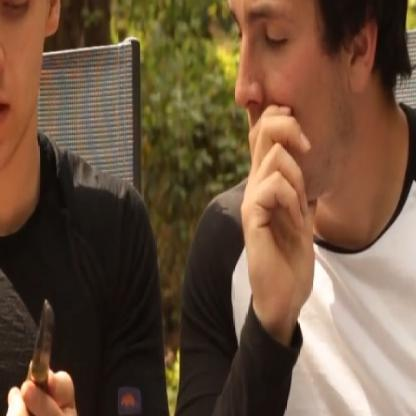knife: (0, 266, 78, 416)
